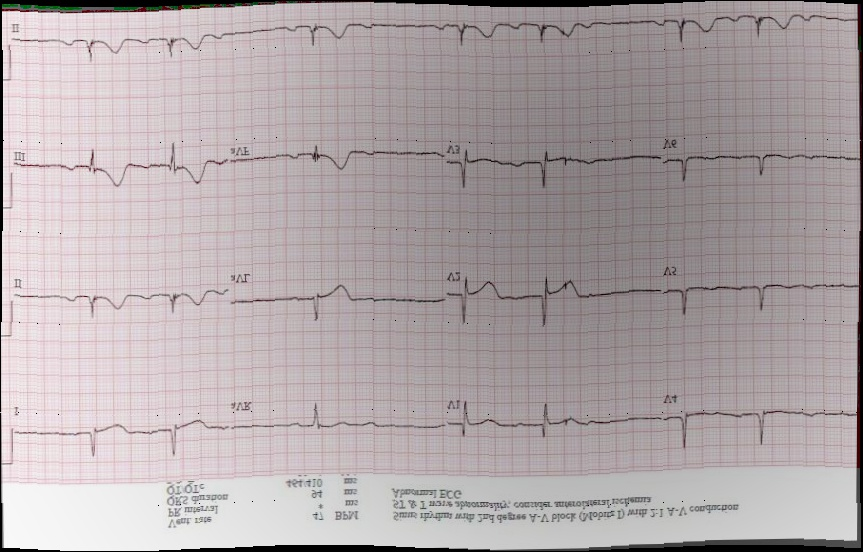Lead_I: (9, 392, 229, 463)
Lead_II: (8, 266, 229, 336)
Lead_III: (6, 129, 228, 205)
Lead_II_ext: (5, 0, 859, 77)
Lead_V1: (443, 387, 665, 455)
Lead_V2: (443, 257, 663, 338)
Lead_V3: (440, 119, 663, 199)
Lead_V4: (663, 370, 861, 465)
Lead_V5: (661, 248, 862, 331)
Lead_V6: (659, 113, 861, 199)
Lead_aVF: (225, 126, 445, 195)
Lead_aVL: (228, 261, 446, 338)
Lead_aVR: (226, 391, 449, 449)
